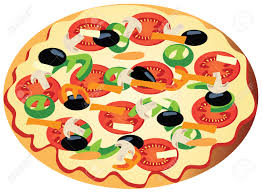pizza: (6, 4, 259, 178)
